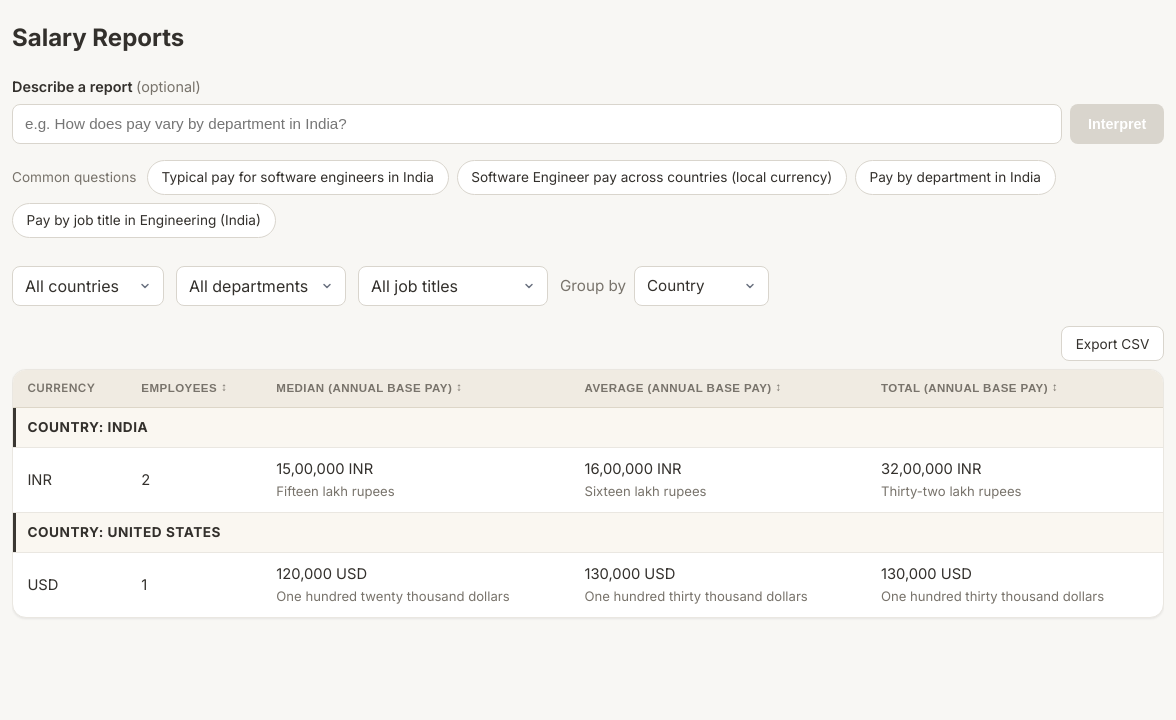
it: ReportsPage › interprets a supported "Describe a report" question into the filters
The image size is (1176, 720).
Type "What is the typical salary for software engineers in India?" into the field labelled "Describe a report (optional)" at {"x": 537, "y": 124}, box [12,104,1062,144]
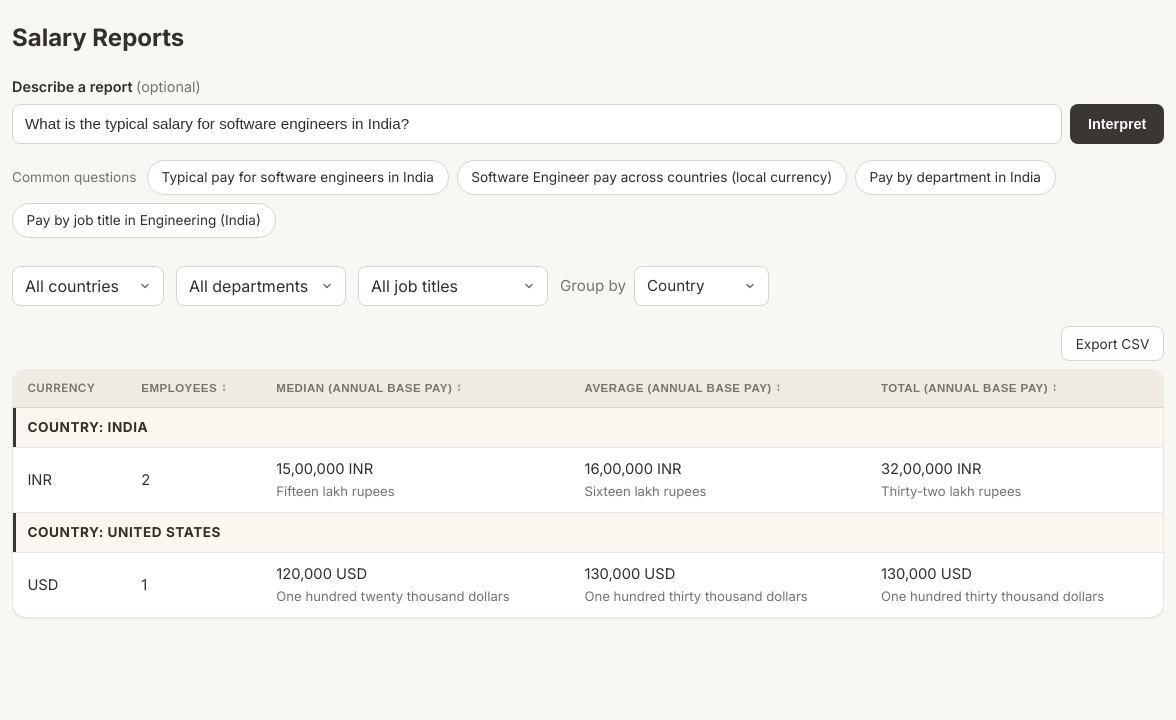
Click the button "Interpret" at {"x": 1117, "y": 124}, box [1070,104,1164,144]
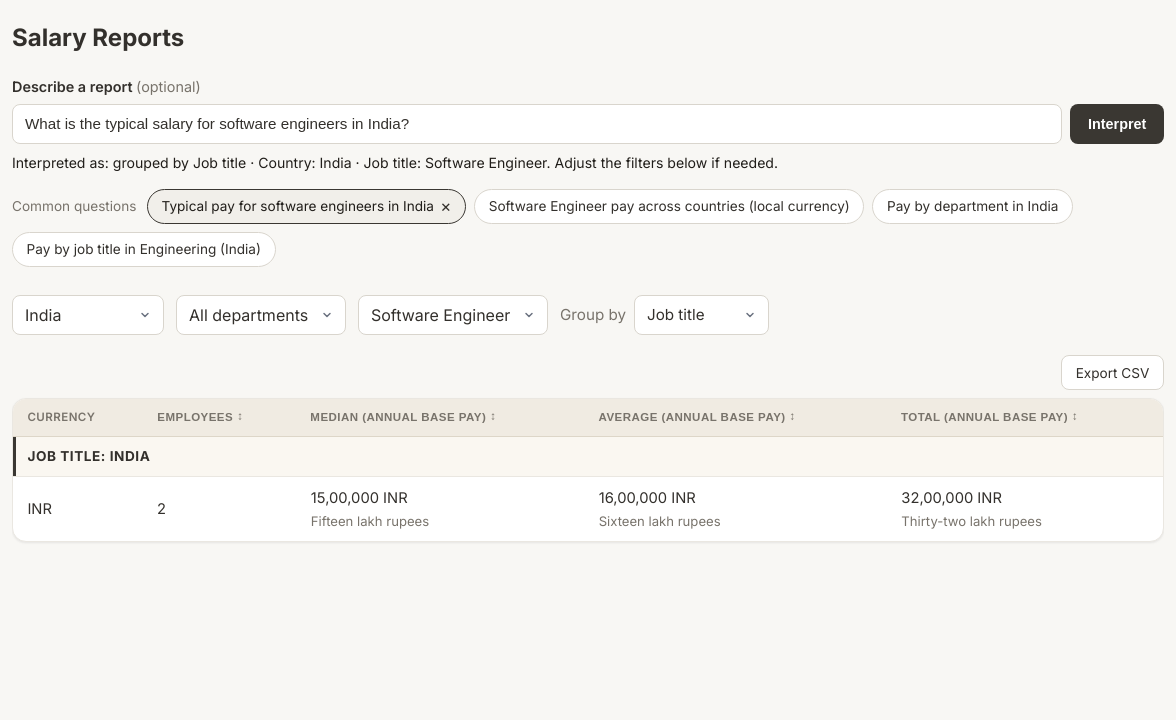
Expected: the dropdown named "Country" shows "India", [12,295,164,335]
Expected: the dropdown named "Job title" shows "Software Engineer", [358,295,548,335]
Expected: the dropdown labelled "Group by" shows "Job title", [634,295,769,335]
